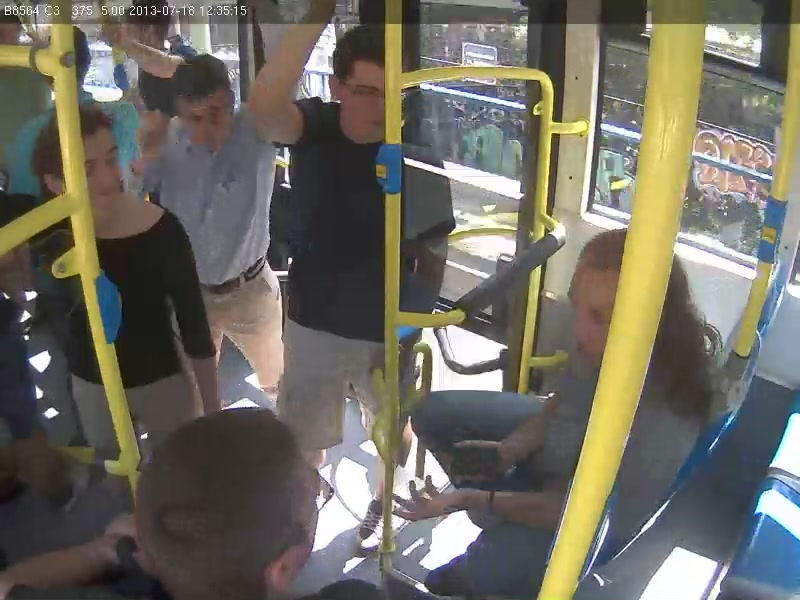Head: (128, 408, 334, 588), (556, 231, 691, 392), (324, 25, 430, 165), (35, 110, 135, 236), (166, 48, 233, 154), (128, 0, 178, 55)
